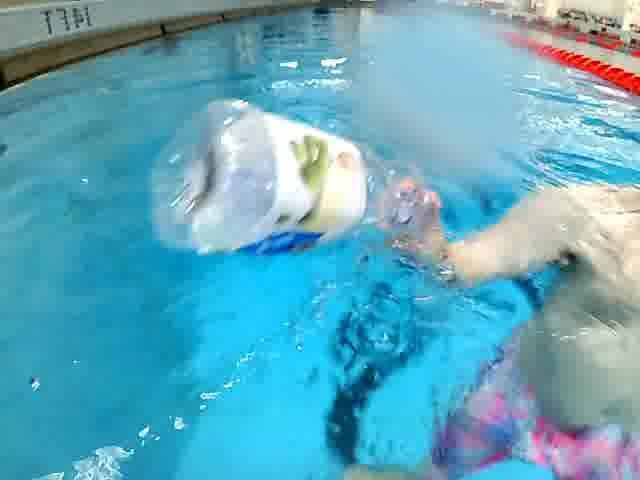Bottle: (133, 89, 457, 280)
